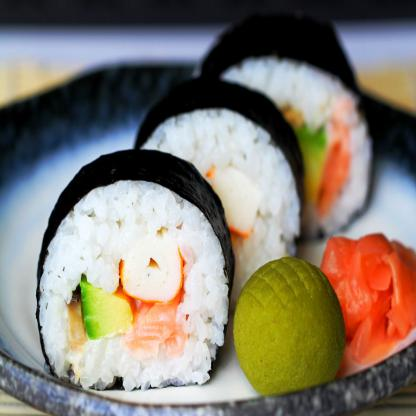futomaki: (28, 147, 238, 407)
